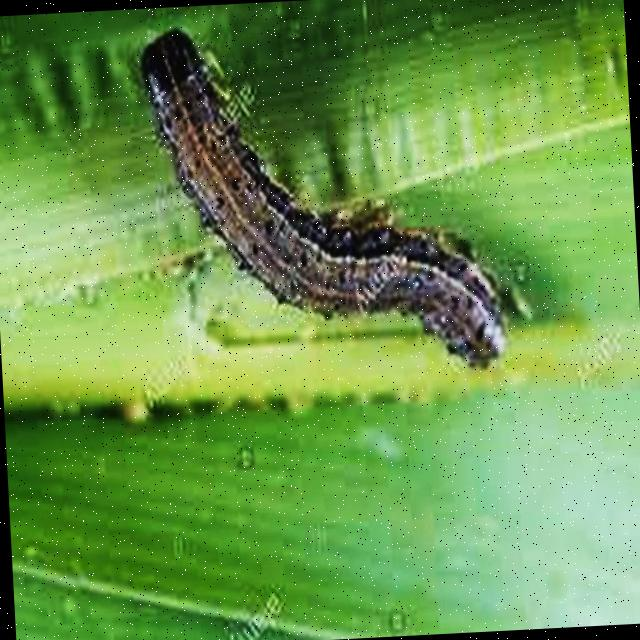worm: (137, 11, 539, 392)
